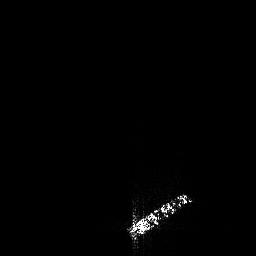ship: (130, 193, 190, 239)
